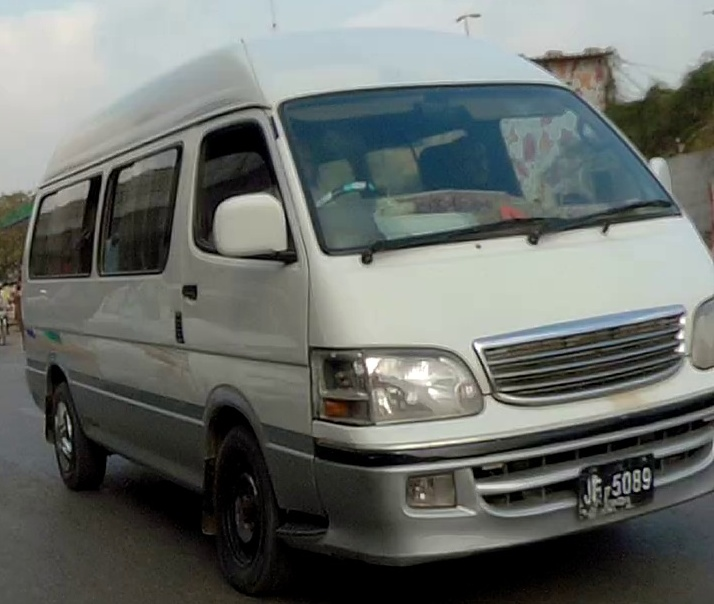van: (17, 23, 714, 594)
